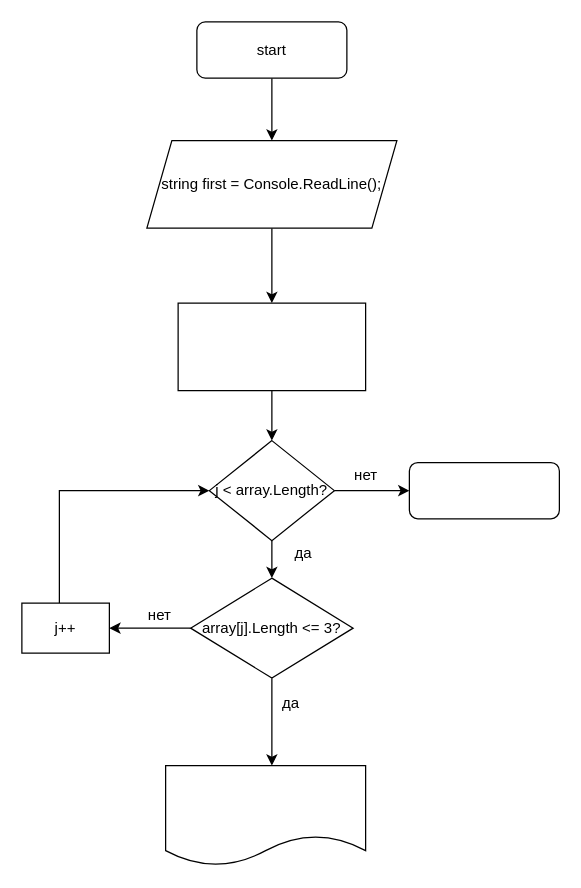
Some shapes in this 581 by 888 pixel diagram are drawn without their labels. Each missing label, with the centre of its shape:
Console . Write ( " ответ: " ); Console . Write ( array [ j ] + " " );: (265,815)
string [] array = first . Split ( ' ' ) int j = 0 ;: (271,346)
ошибка: (483,490)
